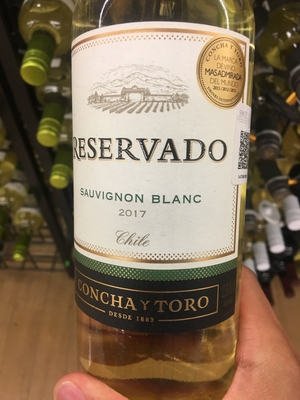reservado sauvignon blanc: (63, 14, 267, 400)
